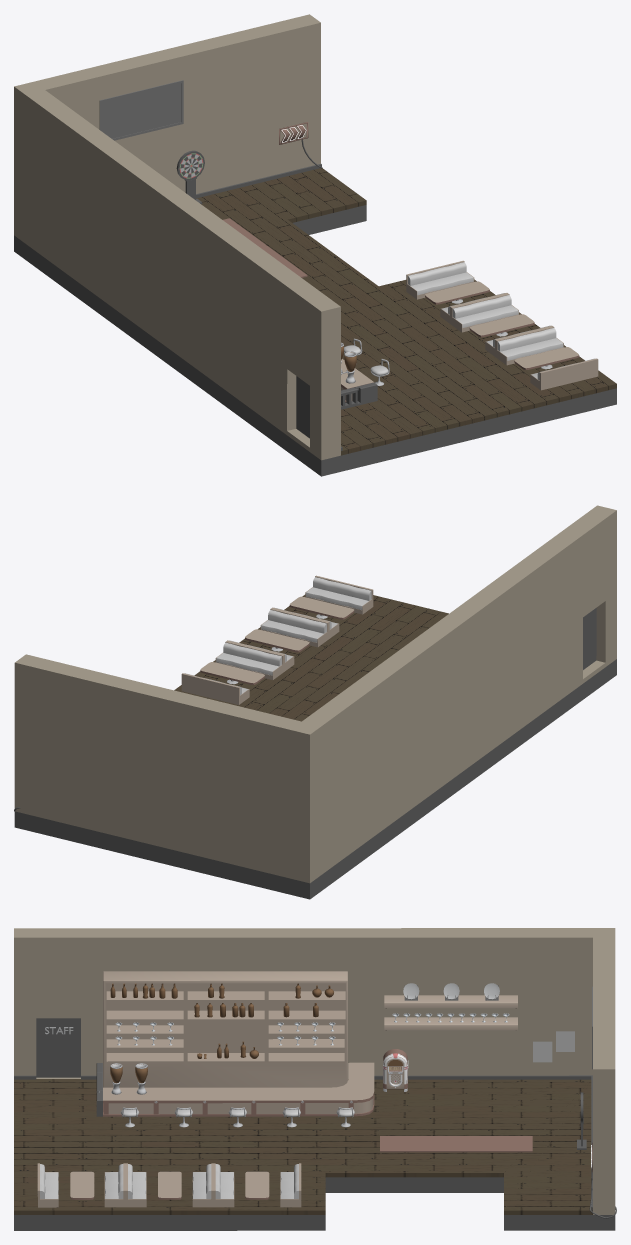
The model's file is lobby.fbx.
3 views of the same model, one above another, from view 1: azimuth 30°, elevation 25°; view 2: azimuth 150°, elevation 25°; view 3: azimuth 270°, elevation 25° (orthographic). The views are drawn at different scales.
Visible parts, largest first — view 1: wall, floor, bar_sofa, bar_TV, tabel, bar_dart, staff_door, molding; view 2: wall, floor, bar_sofa, tabel, staff_door; view 3: floor, wall, showcase, bar, bar_sofa, shelf, staff_door, carpet, tabel, bottle, molding, bar_chair (+5 smaller).
Part boxes in pixels (x1,y1,x2,y2): wall: [14, 14, 340, 476]; floor: [196, 168, 616, 471]; bar_sofa: [406, 260, 598, 390]; bar_TV: [99, 80, 183, 140]; tabel: [425, 281, 579, 370]; bar_dart: [176, 150, 204, 204]; staff_door: [296, 376, 309, 438]; molding: [196, 164, 342, 450]; wall: [14, 505, 616, 899]; floor: [174, 594, 448, 721]; bar_sofa: [181, 575, 373, 704]; tabel: [200, 596, 354, 684]; staff_door: [583, 608, 596, 669]; floor: [14, 1079, 592, 1230]; wall: [14, 928, 615, 1230]; showcase: [103, 971, 347, 1087]; bar: [103, 1062, 374, 1116]; bar_sofa: [37, 1163, 301, 1207]; shelf: [384, 995, 517, 1030]; staff_door: [36, 1018, 80, 1077]; carpet: [380, 1136, 532, 1152]; tabel: [70, 1171, 269, 1199]; bottle: [110, 983, 333, 1058]; molding: [14, 1075, 592, 1210]; bar_chair: [120, 1107, 354, 1127].
Bounding box in the file's own units: 1848 × 981 × 3317.
